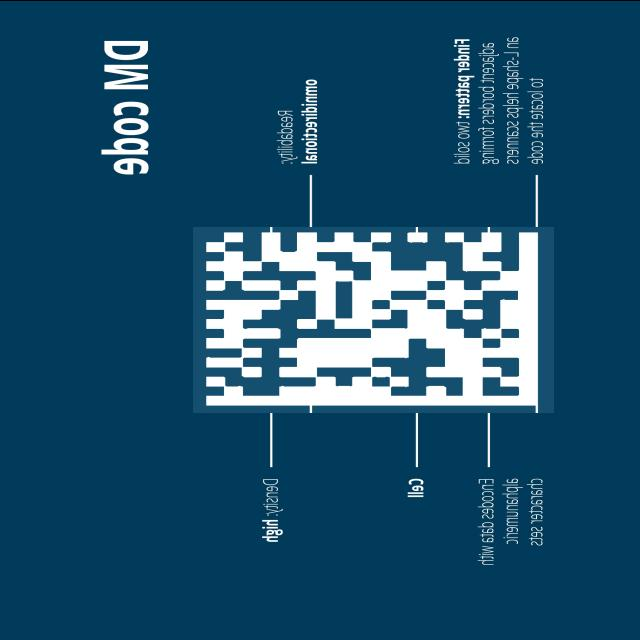DataMatrix: (193, 226, 554, 412)
